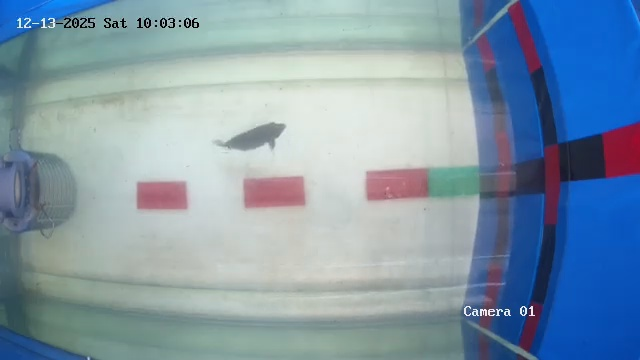fish: (217, 119, 288, 155)
